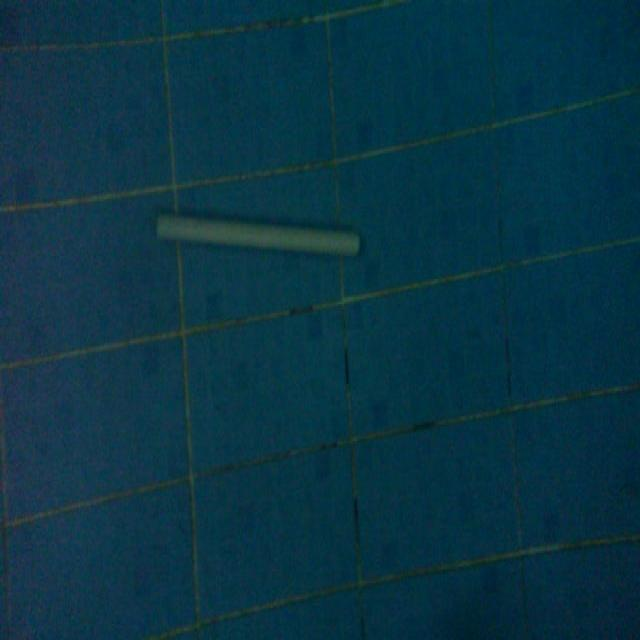Cube: (154, 205, 362, 263)
